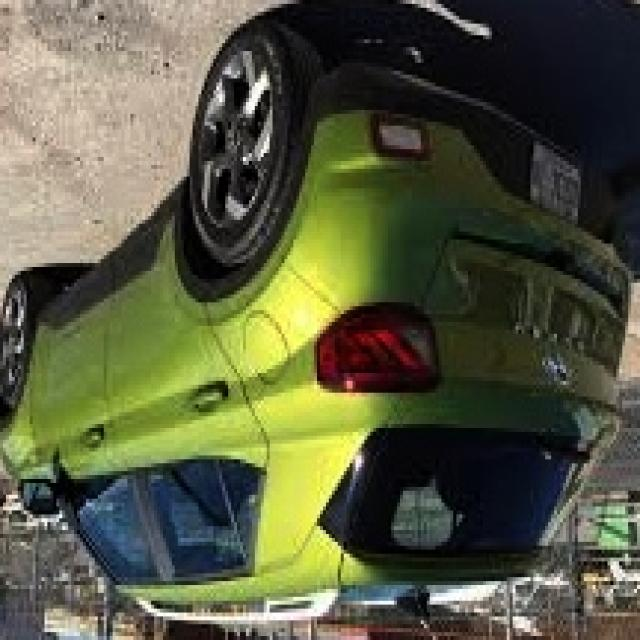green: (0, 15, 633, 608)
